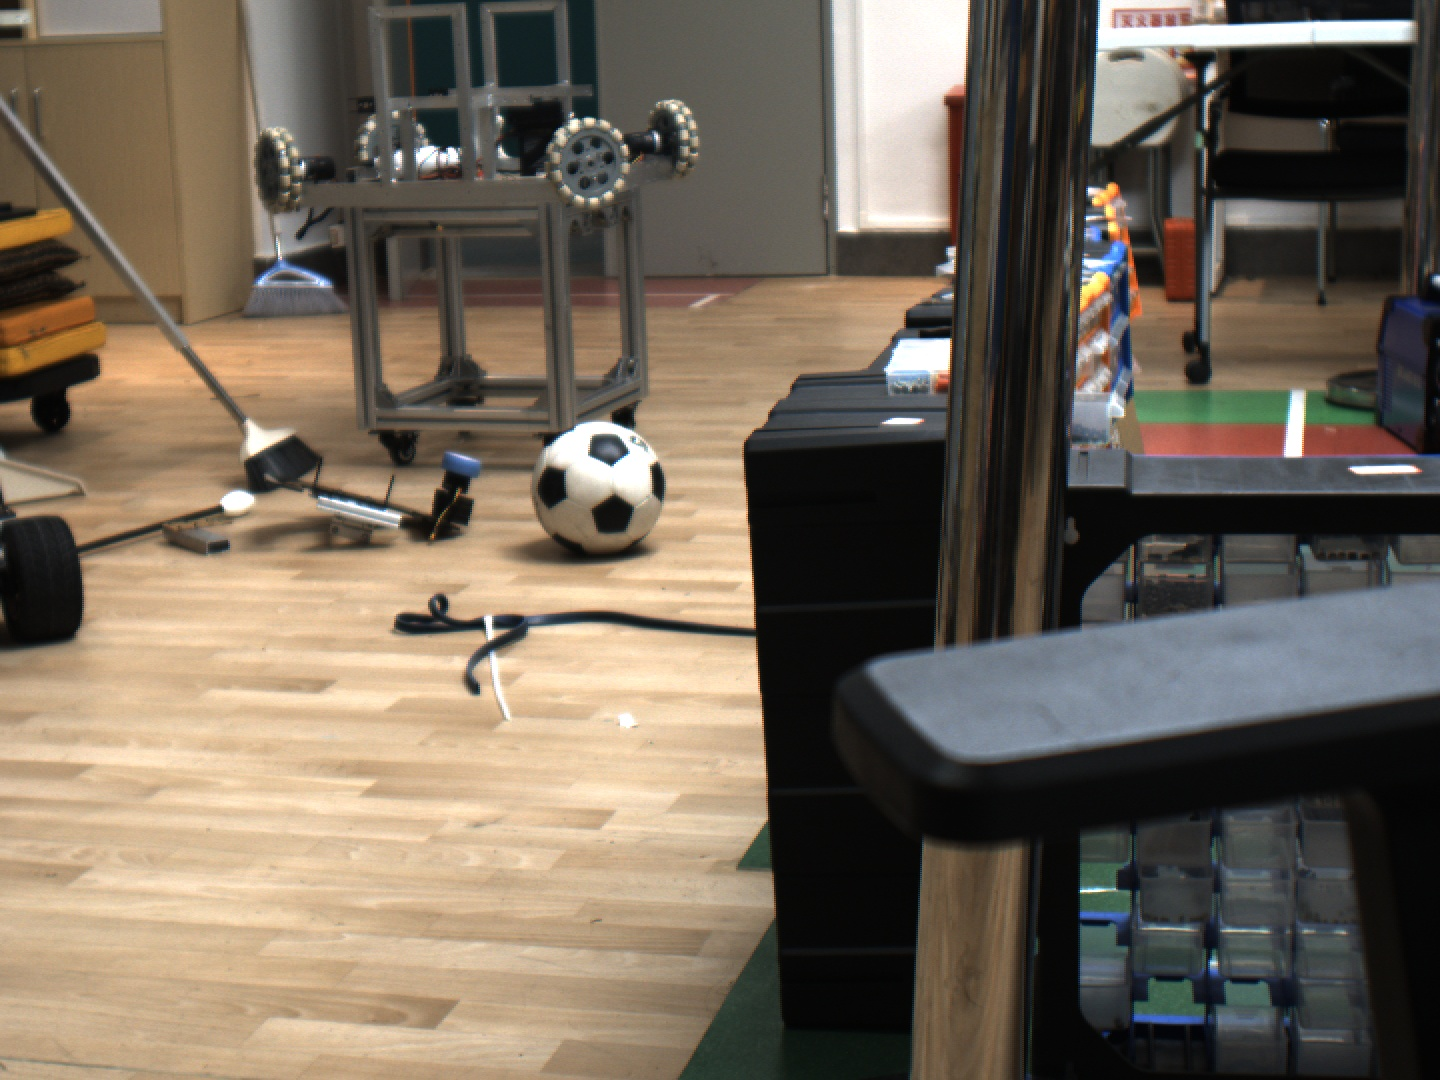ball: (525, 417, 675, 564)
